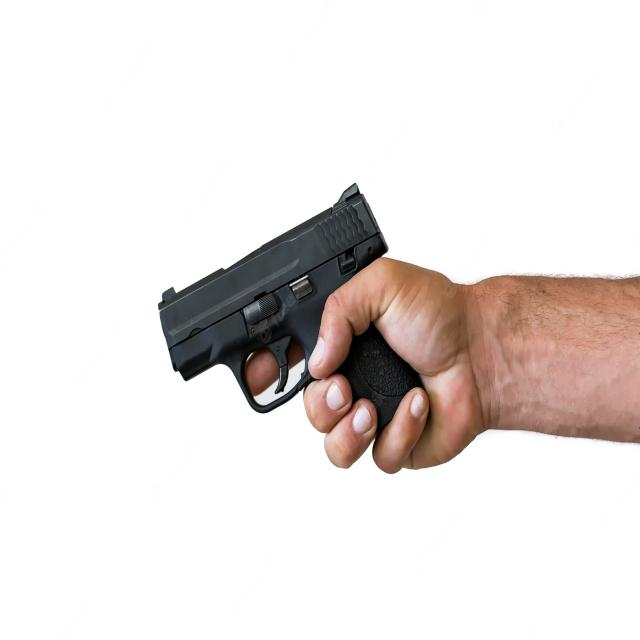HandGun: (157, 184, 424, 436)
